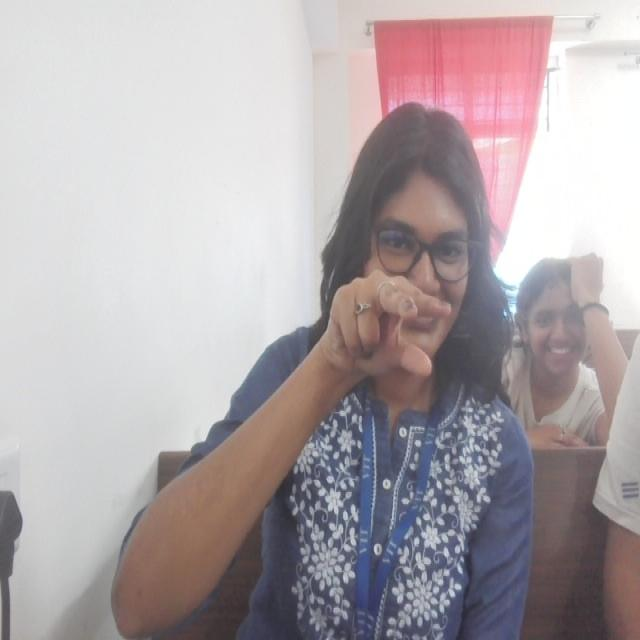no: (327, 269, 455, 385)
